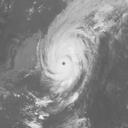cyclone: (36, 26, 92, 86)
